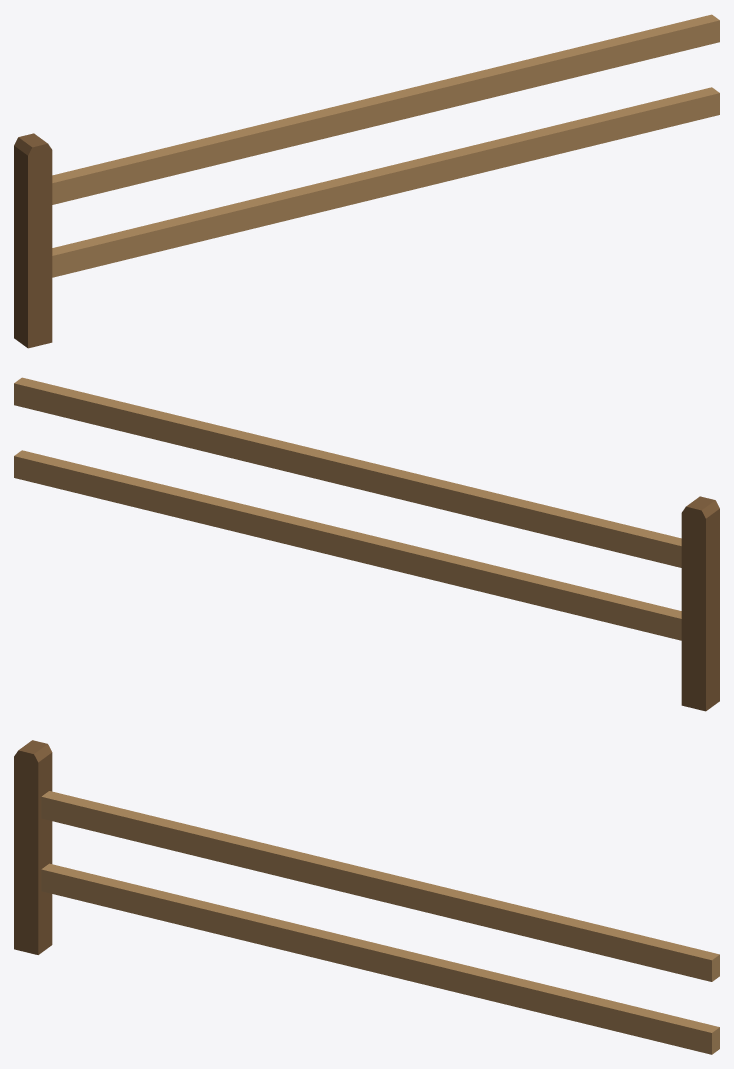
The model's file is TW_WOOD_RAIL_4M_A_LOD0.glb.
3 renders of one model, top to bottom at view 1: azimuth 30°, elevation 25°; view 2: azimuth 150°, elevation 25°; view 3: azimuth 330°, elevation 25°, orthographic.
Parts seen in each view (by area): view 1: TW_WOOD_RAIL_4M_A_LOD0; view 2: TW_WOOD_RAIL_4M_A_LOD0; view 3: TW_WOOD_RAIL_4M_A_LOD0.
Part boxes in pixels (<box>): TW_WOOD_RAIL_4M_A_LOD0: <box>14,14,719,348</box>; TW_WOOD_RAIL_4M_A_LOD0: <box>14,377,719,711</box>; TW_WOOD_RAIL_4M_A_LOD0: <box>14,740,719,1054</box>.
Bounding box in the file's own units: 4 × 1.1 × 0.14.
Materials: 1 (1 with a texture image).
